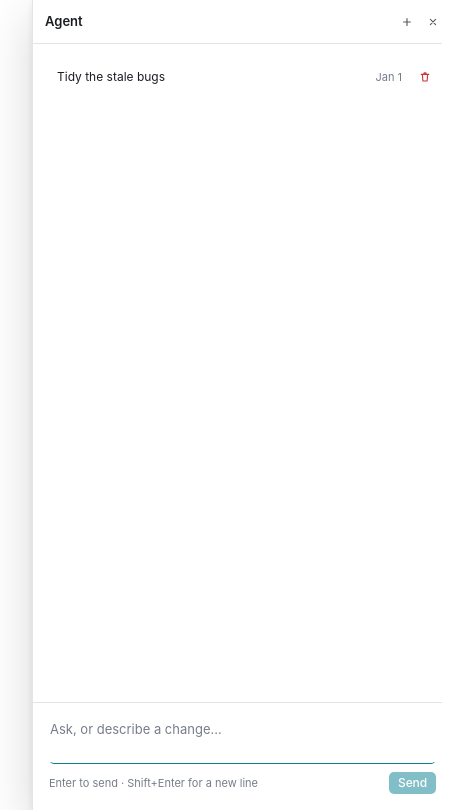
Test: AgentPanel › renders the conversation list, and opens one
Click the button "Tidy the stale bugs Jan 1".
click(111, 76)  # box [49,60,410,94]
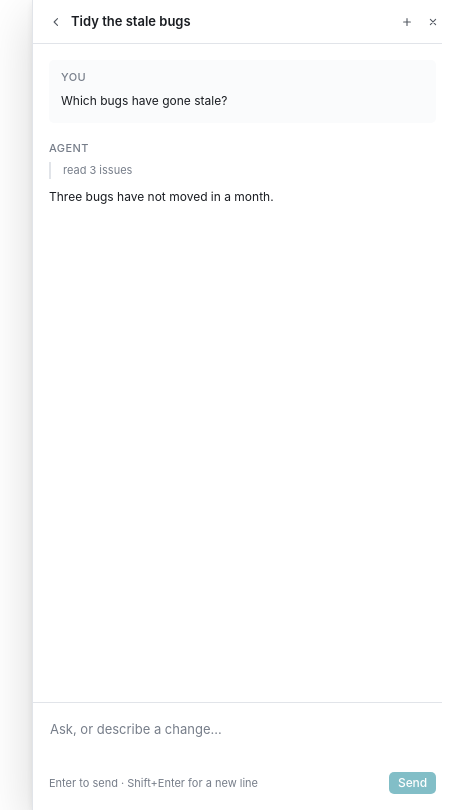
Result: the element named "Conversation" is shown at [49,60,436,207]
